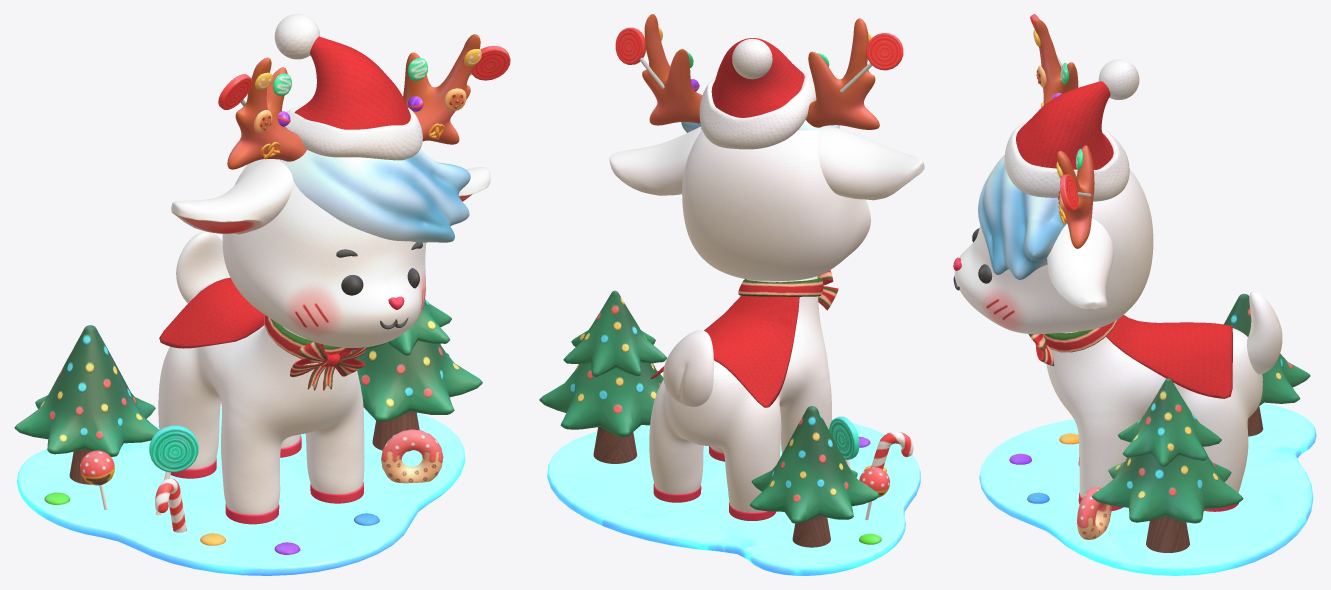
File: christmas_cute_reindeer.glb
3 views of the same model, side by side, from view 1: azimuth 30°, elevation 25°; view 2: azimuth 150°, elevation 25°; view 3: azimuth 270°, elevation 25° (orthographic). The views are drawn at different scales.
Parts seen in each view (by area): view 1: Head, Prop, Body; view 2: Head, Prop, Body; view 3: Prop, Head, Body.
Boxes of the visible parts, x1,y1,x2,y2 form: Head: [171, 14, 510, 347]; Prop: [14, 299, 482, 575]; Body: [158, 231, 366, 524]; Head: [609, 14, 924, 280]; Prop: [539, 290, 920, 575]; Body: [649, 270, 838, 520]; Prop: [979, 293, 1316, 575]; Head: [953, 14, 1153, 334]; Body: [1028, 291, 1282, 511].
Size of the model in its own units: 1.37 by 1.62 by 1.2.
Materials: 1 (1 with a texture image).
